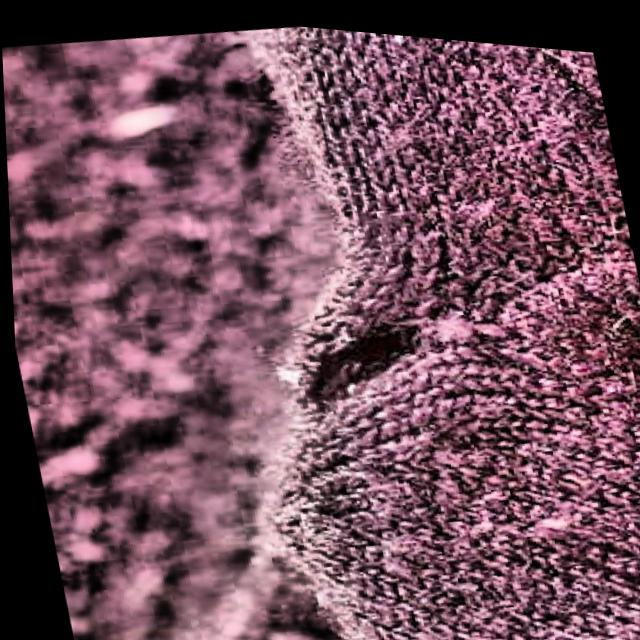seam: (217, 255, 524, 469)
